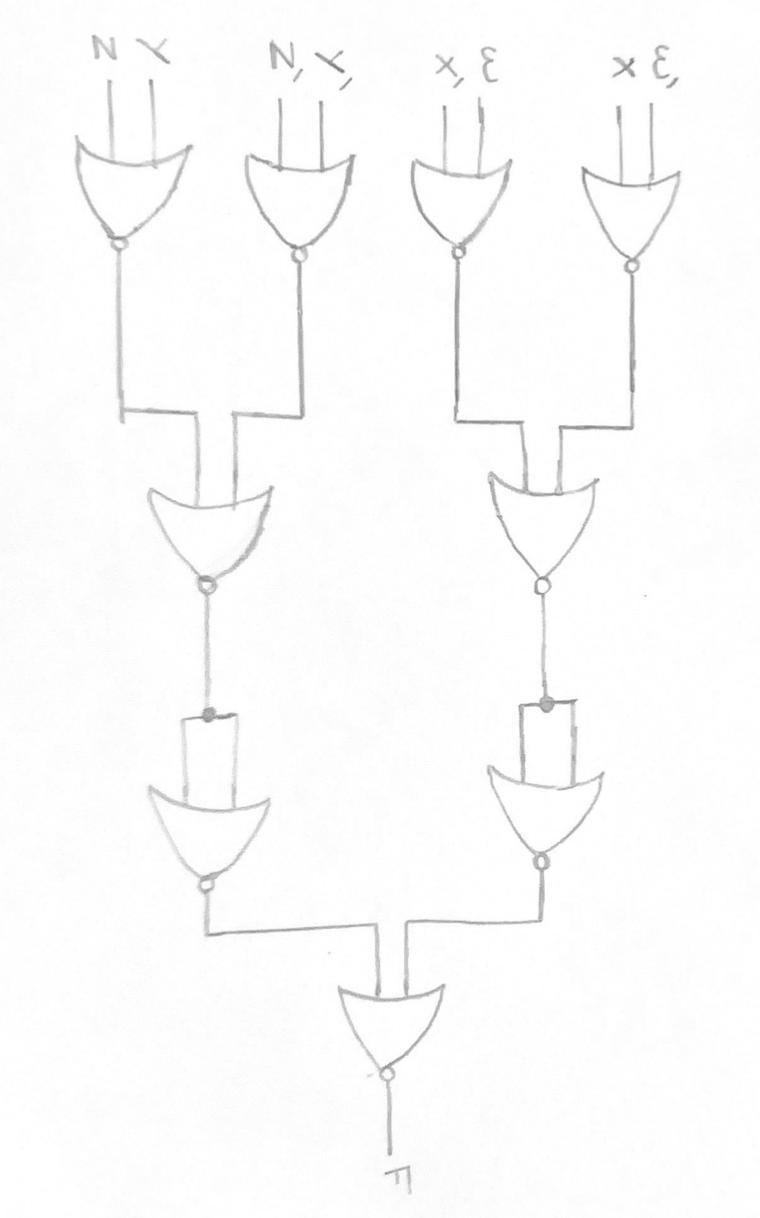NOR: (128, 462, 310, 622), (120, 775, 306, 908), (292, 968, 476, 1092), (473, 467, 633, 608), (470, 745, 624, 886), (52, 132, 197, 265), (570, 157, 705, 296), (241, 140, 368, 272), (404, 145, 525, 270)
